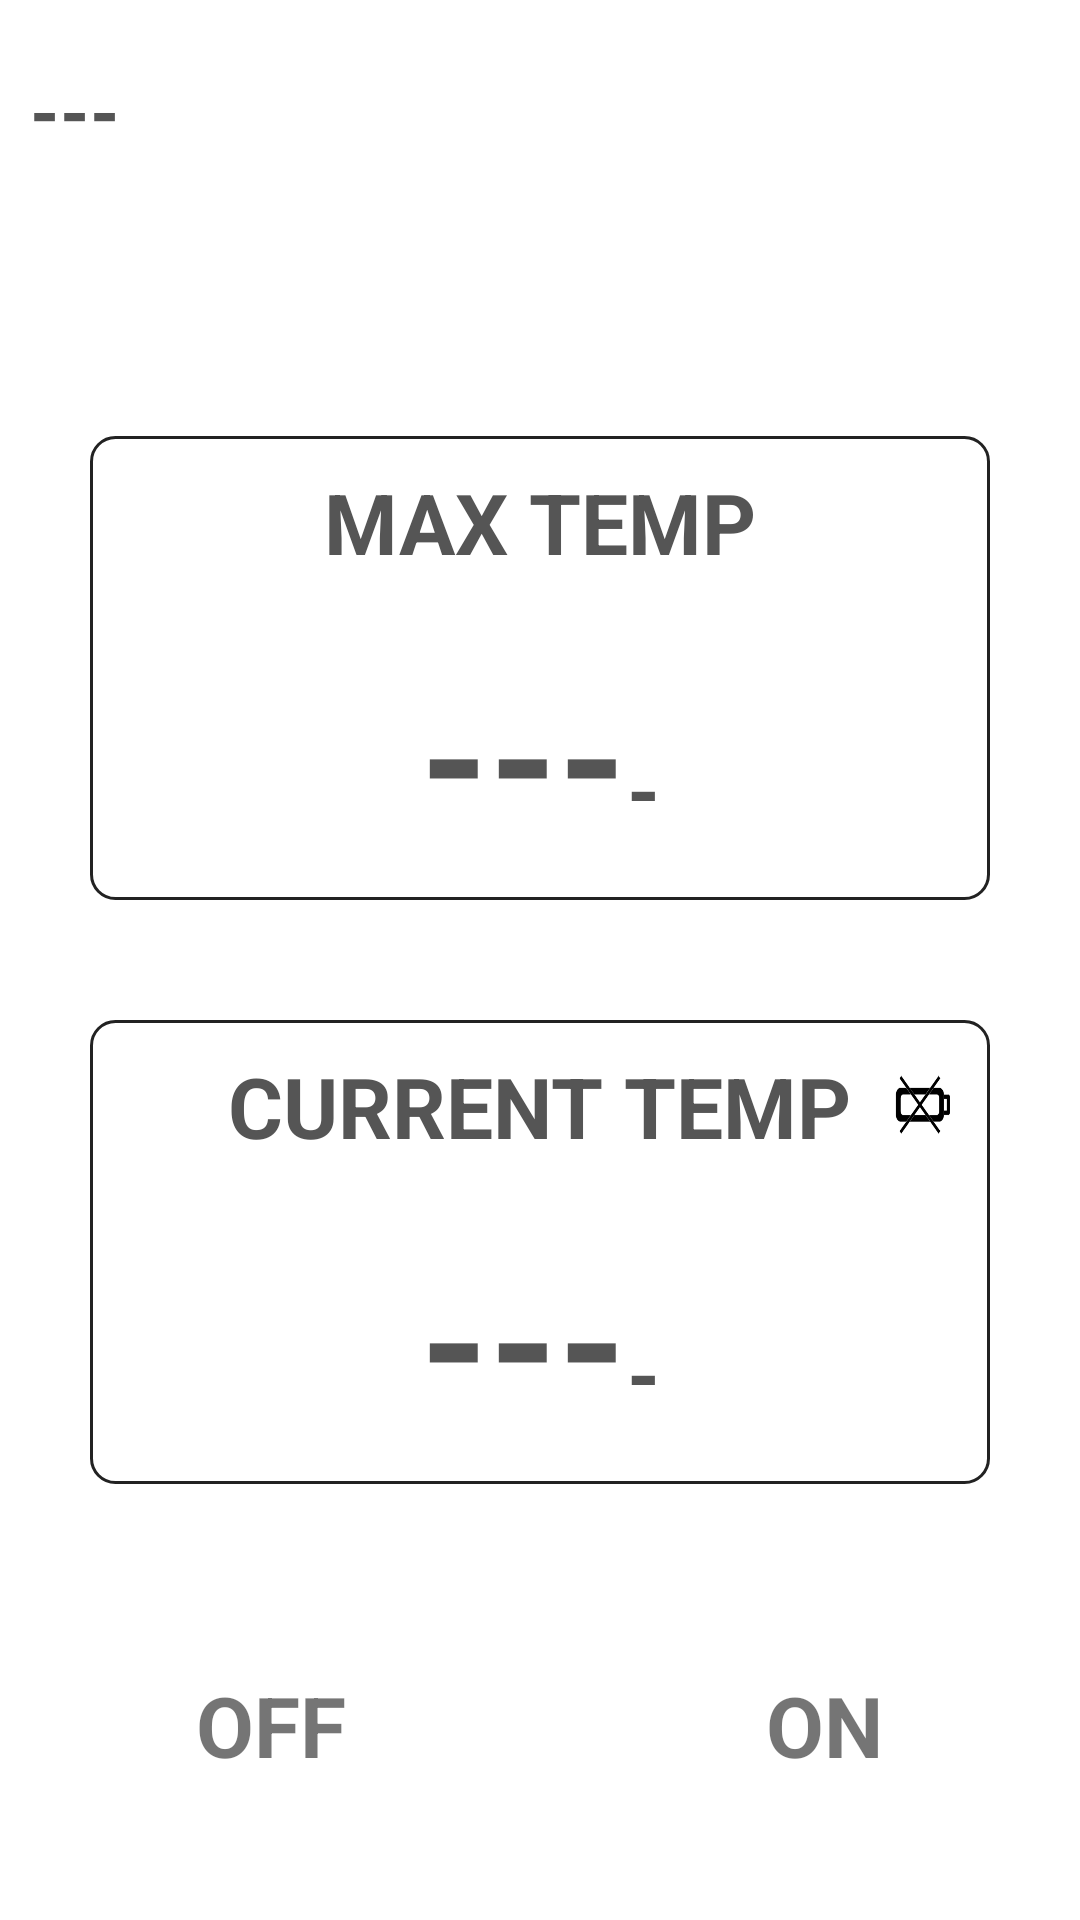

Icons on this 1080 x 1920 Android screen, each with its box as (x1, y1, x2, y2):
lowbat: (896, 1075, 950, 1134)
